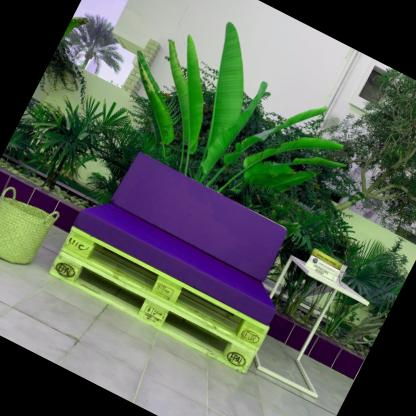BoxFace: (54, 225, 270, 357), (45, 251, 258, 376)
